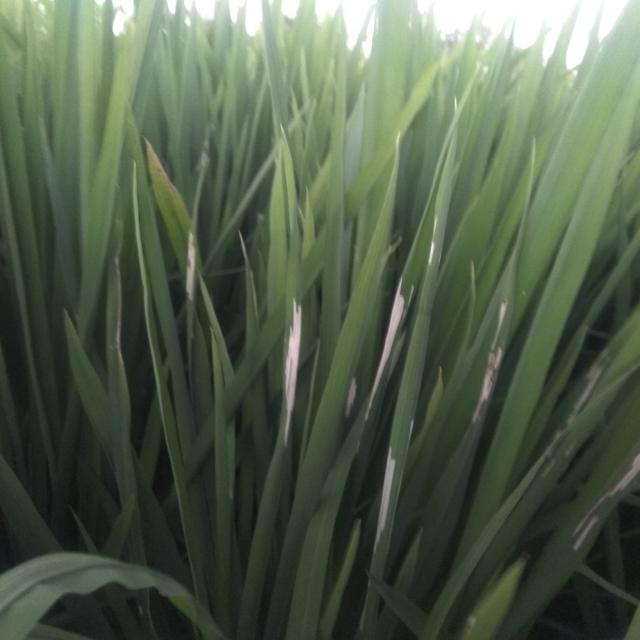Bacterial leaf blight: (465, 274, 507, 448), (572, 448, 640, 547), (272, 277, 306, 435), (546, 371, 614, 436), (376, 278, 402, 409), (379, 447, 404, 579), (179, 229, 219, 308)
